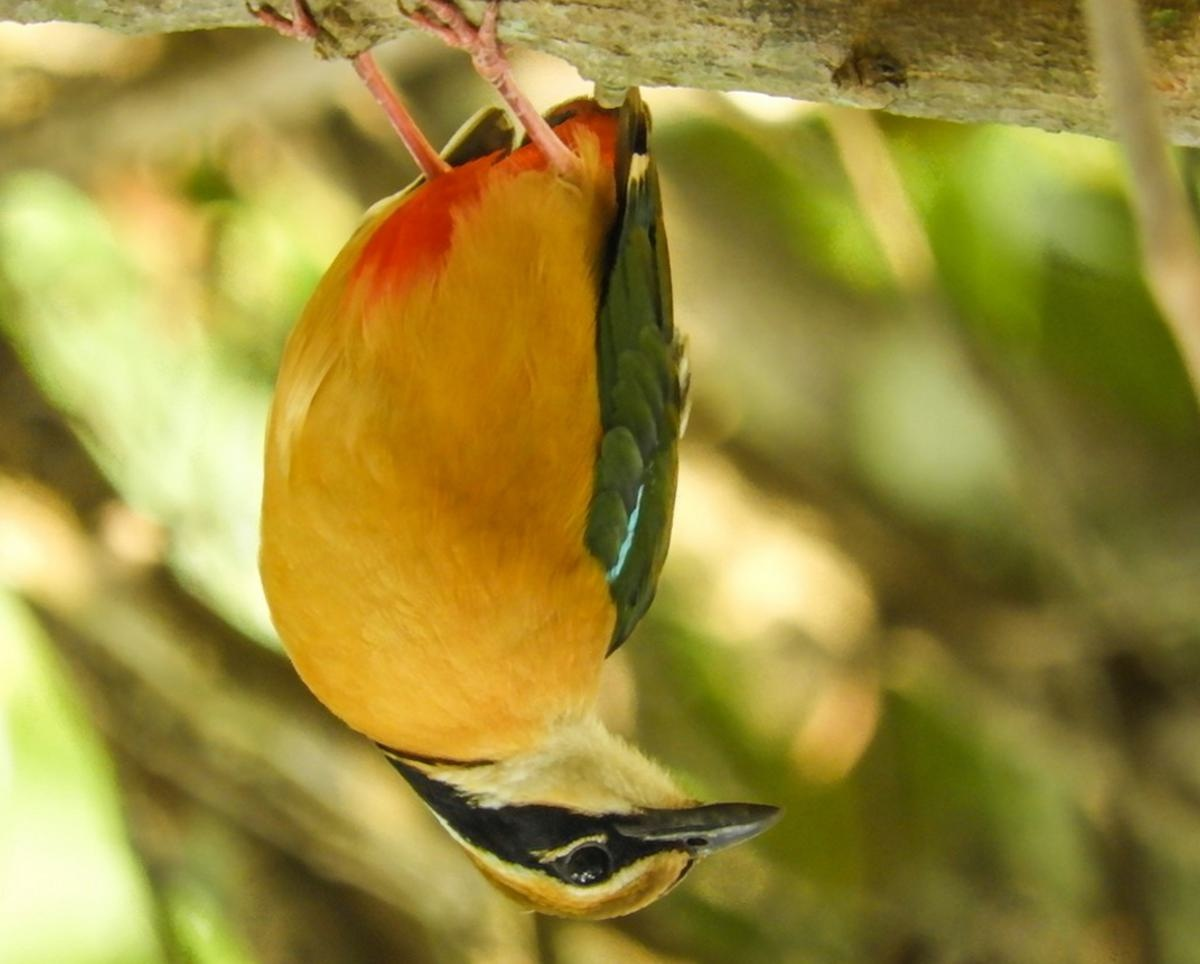pitta: (263, 1, 781, 916)
